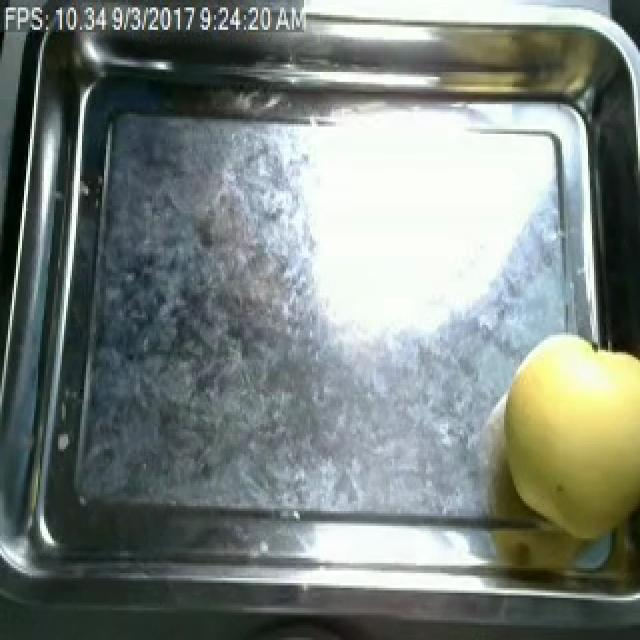Fruit: (488, 322, 640, 550)
